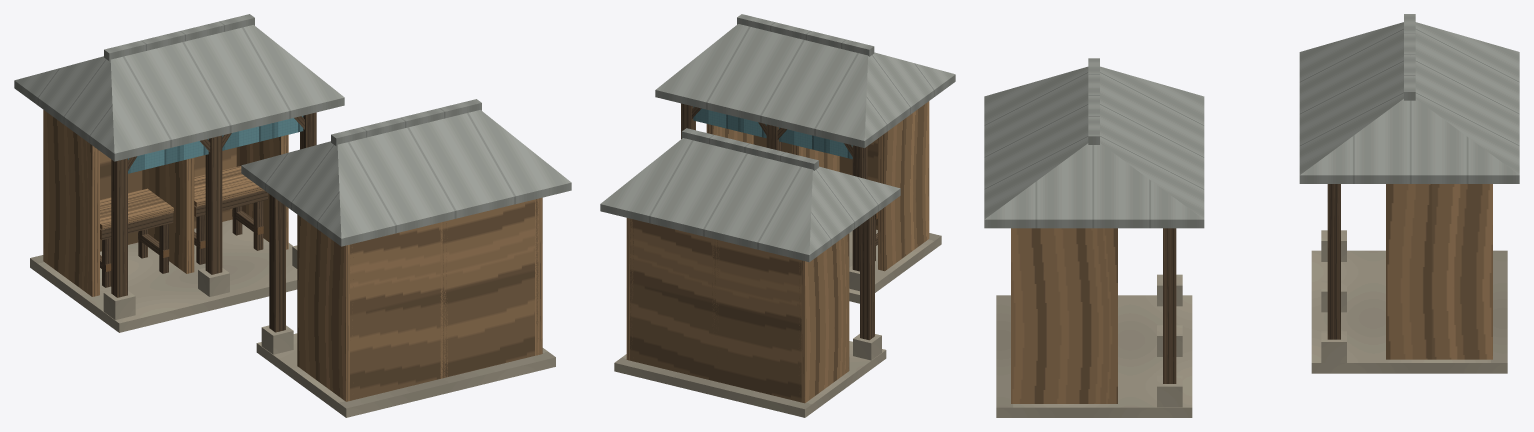
The model's file is marigot.glb.
The picture shows the model from 3 angles, left to right: view 1: azimuth 30°, elevation 25°; view 2: azimuth 150°, elevation 25°; view 3: azimuth 270°, elevation 25°; orthographic projection. The views are drawn at different scales.
Visible parts, largest first — view 1: marigot; view 2: marigot; view 3: marigot.
Part boxes in pixels (x1,y1,x2,y2): marigot: [14, 14, 571, 417]; marigot: [600, 14, 955, 417]; marigot: [984, 14, 1519, 417].
Bounding box in the file's own units: 3.13 × 2.3 × 4.22.
1 material, 1 textured.
